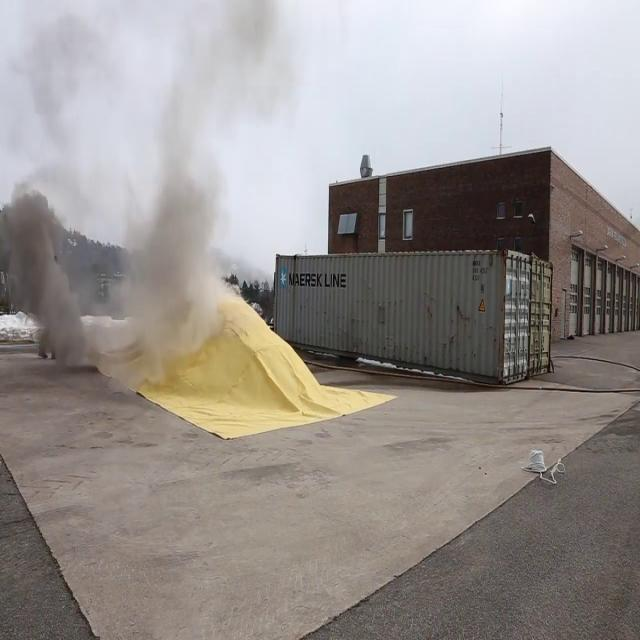Smoke: (105, 12, 244, 358), (0, 174, 97, 356)
